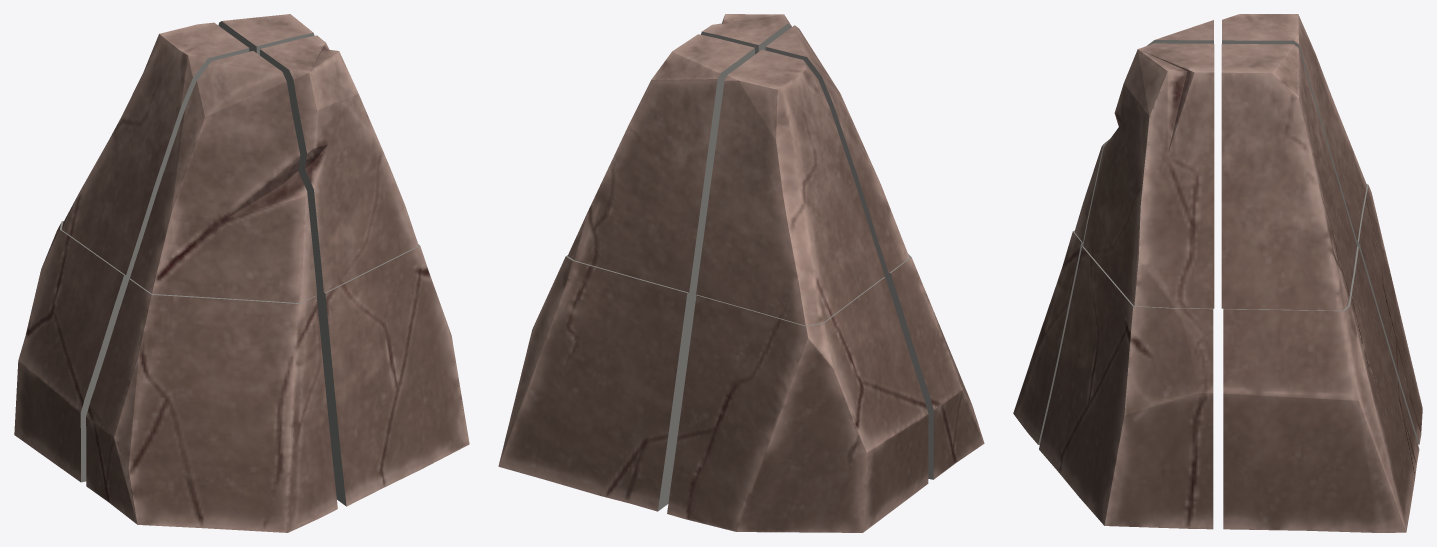
File: roca_agrietada.glb
3 renders of one model, left to right at view 1: azimuth 30°, elevation 25°; view 2: azimuth 150°, elevation 25°; view 3: azimuth 270°, elevation 25°, orthographic. The views are drawn at different scales.
Parts seen in each view (by area): view 1: fragmento_07, fragmento_06, fragmento_03, fragmento_02, fragmento_05, fragmento_04, fragmento_00; view 2: fragmento_05, fragmento_04, fragmento_01, fragmento_00, fragmento_07, fragmento_06, fragmento_02; view 3: fragmento_01, fragmento_03, fragmento_00, fragmento_02, fragmento_04, fragmento_07, fragmento_05, fragmento_06.
Boxes of the visible parts, left/top/right/bottom form: fragmento_07: left=86, top=279, right=337, bottom=532; fragmento_06: left=130, top=51, right=317, bottom=303; fragmento_03: left=316, top=244, right=469, bottom=506; fragmento_02: left=260, top=35, right=418, bottom=292; fragmento_05: left=14, top=221, right=130, bottom=482; fragmento_04: left=62, top=22, right=249, bottom=275; fragmento_00: left=218, top=14, right=314, bottom=55; fragmento_05: left=667, top=277, right=928, bottom=532; fragmento_04: left=696, top=49, right=884, bottom=325; fragmento_01: left=498, top=255, right=696, bottom=511; fragmento_00: left=567, top=34, right=754, bottom=292; fragmento_07: left=883, top=254, right=984, bottom=479; fragmento_06: left=765, top=25, right=909, bottom=273; fragmento_02: left=701, top=14, right=791, bottom=54; fragmento_01: left=1223, top=246, right=1419, bottom=532; fragmento_03: left=1039, top=246, right=1213, bottom=529; fragmento_00: left=1221, top=44, right=1357, bottom=310; fragmento_02: left=1083, top=43, right=1214, bottom=308; fragmento_04: left=1222, top=14, right=1366, bottom=242; fragmento_07: left=1013, top=230, right=1083, bottom=444; fragmento_05: left=1356, top=184, right=1422, bottom=444; fragmento_06: left=1074, top=20, right=1213, bottom=242.
Size of the model in its own units: 1.18 by 1.3 by 1.19.
Materials: 2 (1 with a texture image).
